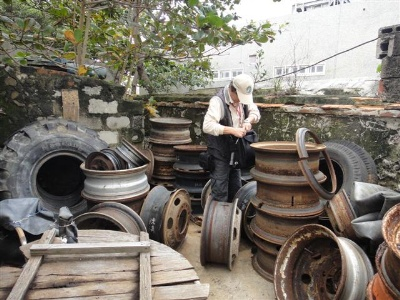tire: (1, 120, 111, 225)
